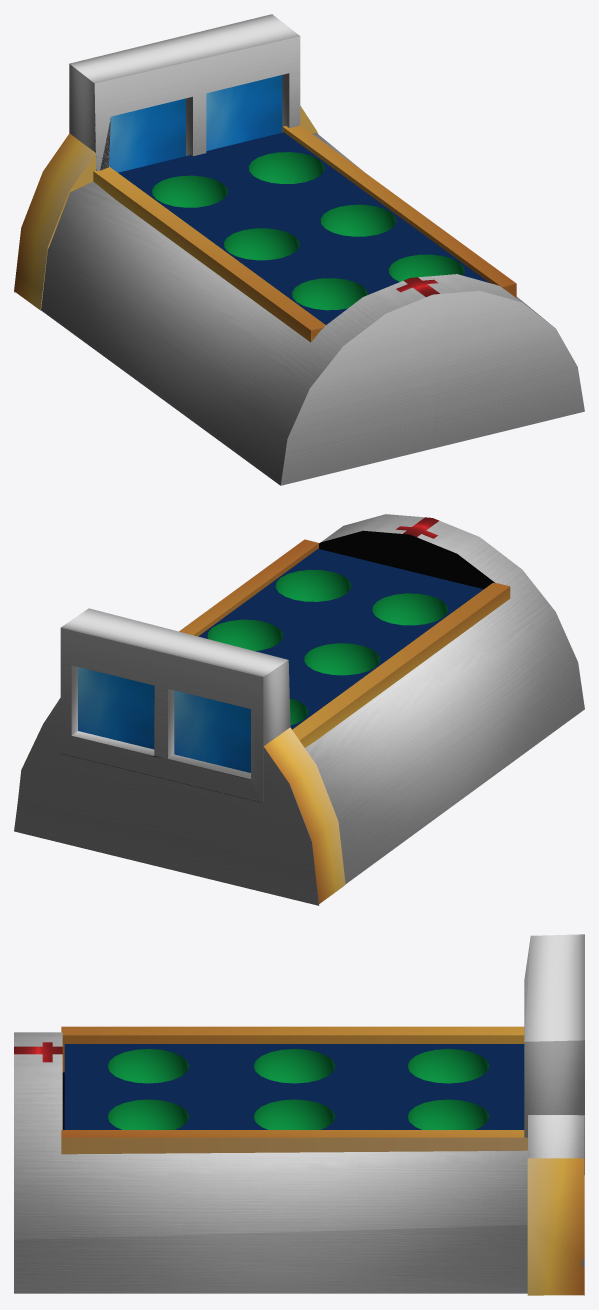
The model's file is Sanador2.obj.
The picture shows the model from 3 angles, top to bottom: view 1: azimuth 30°, elevation 25°; view 2: azimuth 150°, elevation 25°; view 3: azimuth 270°, elevation 25°; orthographic projection. The views are drawn at different scales.
Visible parts, largest first — view 1: Sanador2:polySurface8, polySurface6, Sanador2:polySurface11, Sanador2:pasted__pCube1group18, Sanador2:polySurface10polySurface13, Sanador2:pasted__polySurface7group12, Sanador2:pasted__pasted__polySurface7pasted__group12group16, Sanador2:pCube1; view 2: Sanador2:polySurface8, polySurface6, Sanador2:polySurface11, Sanador2:pasted__pCube1group18, Sanador2:polySurface10polySurface13, Sanador2:pasted__polySurface7group12, Sanador2:pasted__pasted__polySurface7pasted__group12group16, Sanador2:pCube1; view 3: Sanador2:polySurface8, polySurface6, Sanador2:polySurface11, Sanador2:pCube1, Sanador2:pasted__pCube1group18, Sanador2:polySurface10polySurface13, Sanador2:polySurface13polySurface10.
Boxes of the visible parts, bbox=[...] form: Sanador2:polySurface8: bbox=[14, 132, 584, 485]; polySurface6: bbox=[118, 132, 489, 324]; Sanador2:polySurface11: bbox=[69, 14, 300, 170]; Sanador2:pasted__pCube1group18: bbox=[93, 166, 325, 342]; Sanador2:polySurface10polySurface13: bbox=[14, 106, 317, 310]; Sanador2:pasted__polySurface7group12: bbox=[206, 75, 282, 150]; Sanador2:pasted__pasted__polySurface7pasted__group12group16: bbox=[109, 98, 185, 172]; Sanador2:pCube1: bbox=[282, 125, 516, 297]; Sanador2:polySurface8: bbox=[14, 514, 584, 905]; polySurface6: bbox=[198, 549, 483, 729]; Sanador2:polySurface11: bbox=[60, 608, 290, 802]; Sanador2:pasted__pCube1group18: bbox=[292, 583, 510, 747]; Sanador2:polySurface10polySurface13: bbox=[14, 725, 345, 903]; Sanador2:pasted__polySurface7group12: bbox=[78, 667, 154, 749]; Sanador2:pasted__pasted__polySurface7pasted__group12group16: bbox=[174, 690, 250, 772]; Sanador2:pCube1: bbox=[179, 539, 319, 636]; Sanador2:polySurface8: bbox=[14, 1032, 584, 1295]; polySurface6: bbox=[64, 1044, 524, 1129]; Sanador2:polySurface11: bbox=[524, 934, 584, 1174]; Sanador2:pCube1: bbox=[61, 1130, 527, 1154]; Sanador2:pasted__pCube1group18: bbox=[61, 1026, 524, 1072]; Sanador2:polySurface10polySurface13: bbox=[527, 1115, 584, 1295]; Sanador2:polySurface13polySurface10: bbox=[528, 1115, 584, 1158].
Size of the model in its own units: 4.31 by 2.91 by 6.52.
Materials: 8 (6 with a texture image).
